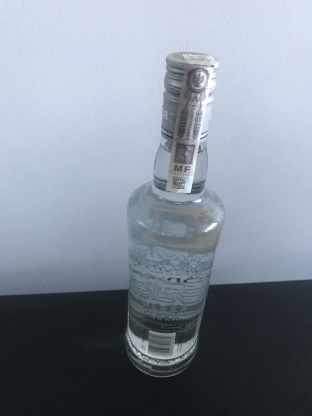nakretka: (158, 48, 221, 146)
